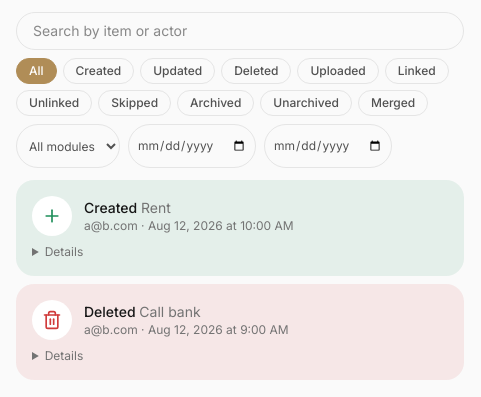
Test: ActivityLogList › filters entries by module
Select "Reminders" in the dropdown with test id "activity-entity-type-select" at (68, 146), box [16,124,120,168]
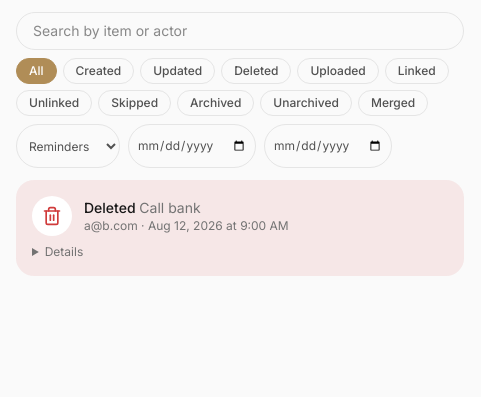
Now the number of elements with test id "activity-log-entry" is 1, box [16,180,464,276]
